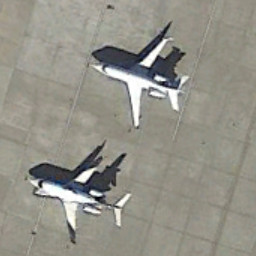Airplane: (82, 14, 201, 139), (23, 149, 144, 247)
